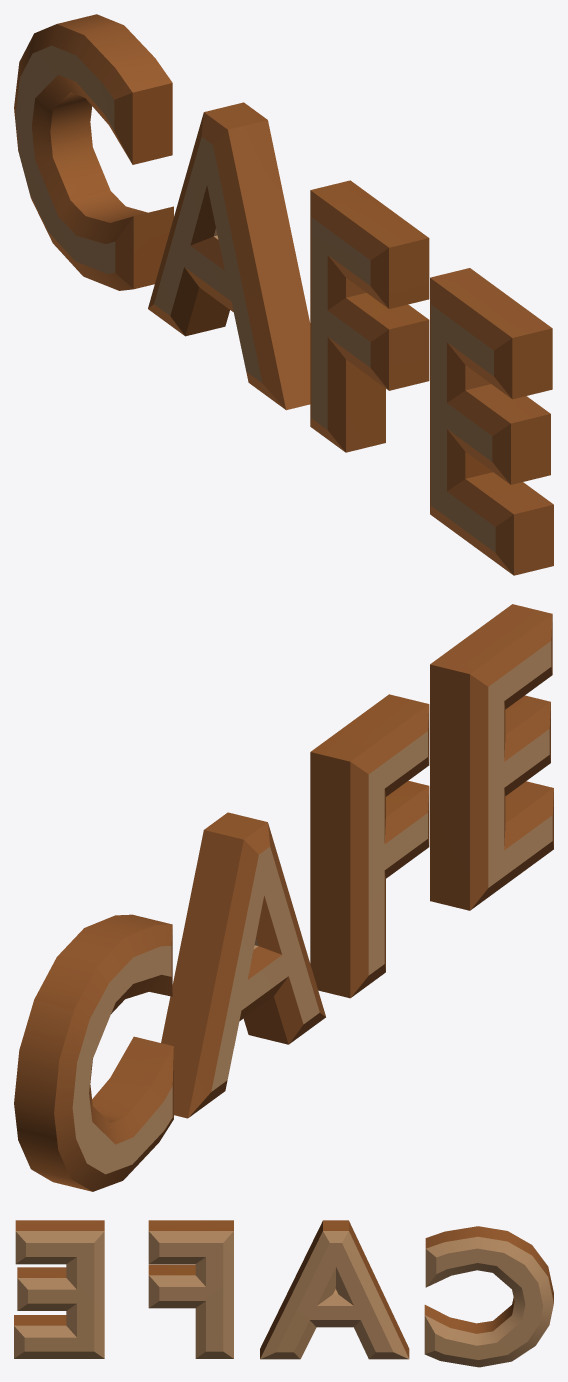
File: CafeSign_6_A.fbx
3 renders of one model, top to bottom at view 1: azimuth 30°, elevation 25°; view 2: azimuth 150°, elevation 25°; view 3: azimuth 270°, elevation 25°, orthographic. The views are drawn at different scales.
Visible parts, largest first — view 1: CafeSign_6_A; view 2: CafeSign_6_A; view 3: CafeSign_6_A.
Boxes of the visible parts, box(x1,y1,x2,y2) form: CafeSign_6_A: box(14, 14, 553, 575); CafeSign_6_A: box(14, 604, 553, 1191); CafeSign_6_A: box(14, 1220, 553, 1367).
Bounding box in the file's own units: 28.68 × 121 × 434.
